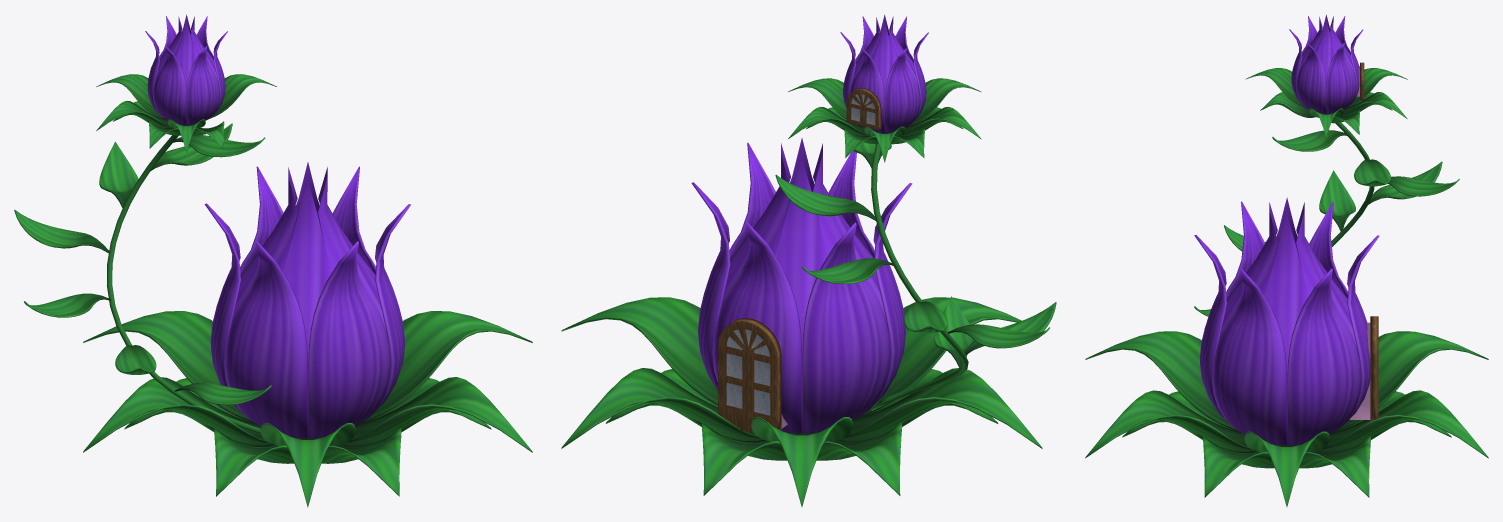
File: Tulip House.fbx
3 renders of one model, left to right at view 1: azimuth 30°, elevation 25°; view 2: azimuth 150°, elevation 25°; view 3: azimuth 270°, elevation 25°, orthographic. The views are drawn at different scales.
Visible parts, largest first — view 1: Sphere.003, Sphere.002, Sphere.016, Sphere.012, Sphere.015, Sphere.008, Sphere.013, Sphere.004, Sphere.014, Sphere.001, Sphere.022, Sphere.023 (+20 smaller); view 2: Sphere.001, Sphere, Cylinder.019, Sphere.016, Sphere.013, Sphere.017, Sphere.006, Sphere.014, Sphere.012, Sphere.005, Sphere.002, Sphere.020 (+22 smaller); view 3: Sphere.004, Sphere.005, Sphere.014, Sphere.015, Sphere.017, Sphere.012, Sphere.010, Sphere.016, Sphere.003, Sphere, Sphere.018, Sphere.019 (+20 smaller).
Part boxes in pixels (x1,y1,x2,y2): Sphere.003: [307, 241, 391, 438]; Sphere.002: [224, 241, 307, 438]; Sphere.016: [361, 311, 532, 422]; Sphere.012: [83, 311, 254, 422]; Sphere.015: [347, 377, 532, 452]; Sphere.008: [283, 181, 331, 358]; Sphere.013: [83, 377, 293, 452]; Sphere.004: [356, 204, 410, 425]; Sphere.014: [260, 423, 355, 507]; Sphere.001: [204, 203, 243, 414]; Sphere.022: [321, 428, 401, 496]; Sphere.023: [214, 428, 294, 496]; Sphere.001: [801, 222, 890, 433]; Sphere: [712, 222, 801, 433]; Cylinder.019: [718, 318, 787, 433]; Sphere.016: [561, 297, 717, 405]; Sphere.013: [816, 368, 1042, 448]; Sphere.017: [561, 368, 787, 448]; Sphere.006: [775, 158, 827, 350]; Sphere.014: [858, 297, 1021, 417]; Sphere.012: [751, 417, 852, 506]; Sphere.005: [691, 182, 730, 390]; Sphere.002: [854, 183, 912, 419]; Sphere.020: [702, 422, 788, 495]; Sphere.004: [1212, 268, 1286, 445]; Sphere.005: [1286, 268, 1361, 445]; Sphere.014: [1085, 331, 1239, 431]; Sphere.015: [1085, 390, 1274, 458]; Sphere.017: [1299, 390, 1488, 458]; Sphere.012: [1334, 331, 1488, 431]; Sphere.010: [1265, 215, 1308, 374]; Sphere.016: [1244, 431, 1329, 506]; Sphere.003: [1194, 235, 1230, 424]; Sphere: [1331, 235, 1379, 433]; Sphere.018: [1203, 436, 1274, 497]; Sphere.019: [1299, 436, 1370, 497].
Bounding box in the file's own units: 5865 × 4997 × 4729.
